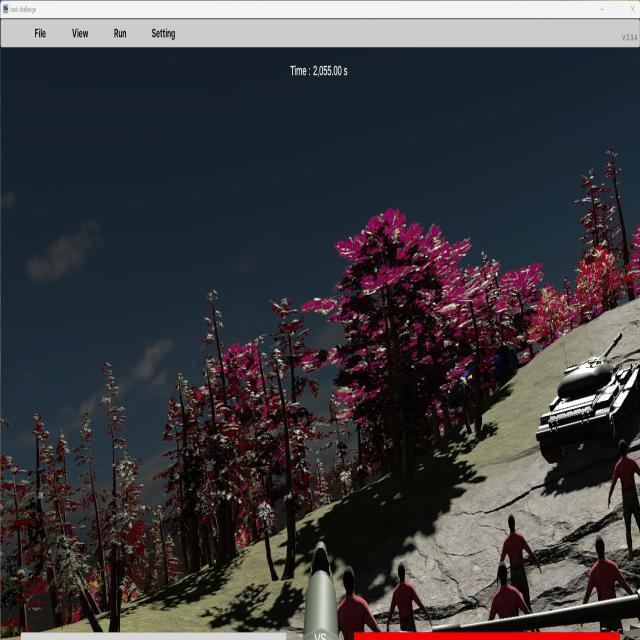Human: (581, 534, 637, 638), (496, 512, 542, 638), (330, 565, 389, 640), (607, 435, 640, 562), (387, 562, 431, 640)
Tank: (536, 330, 640, 463)
